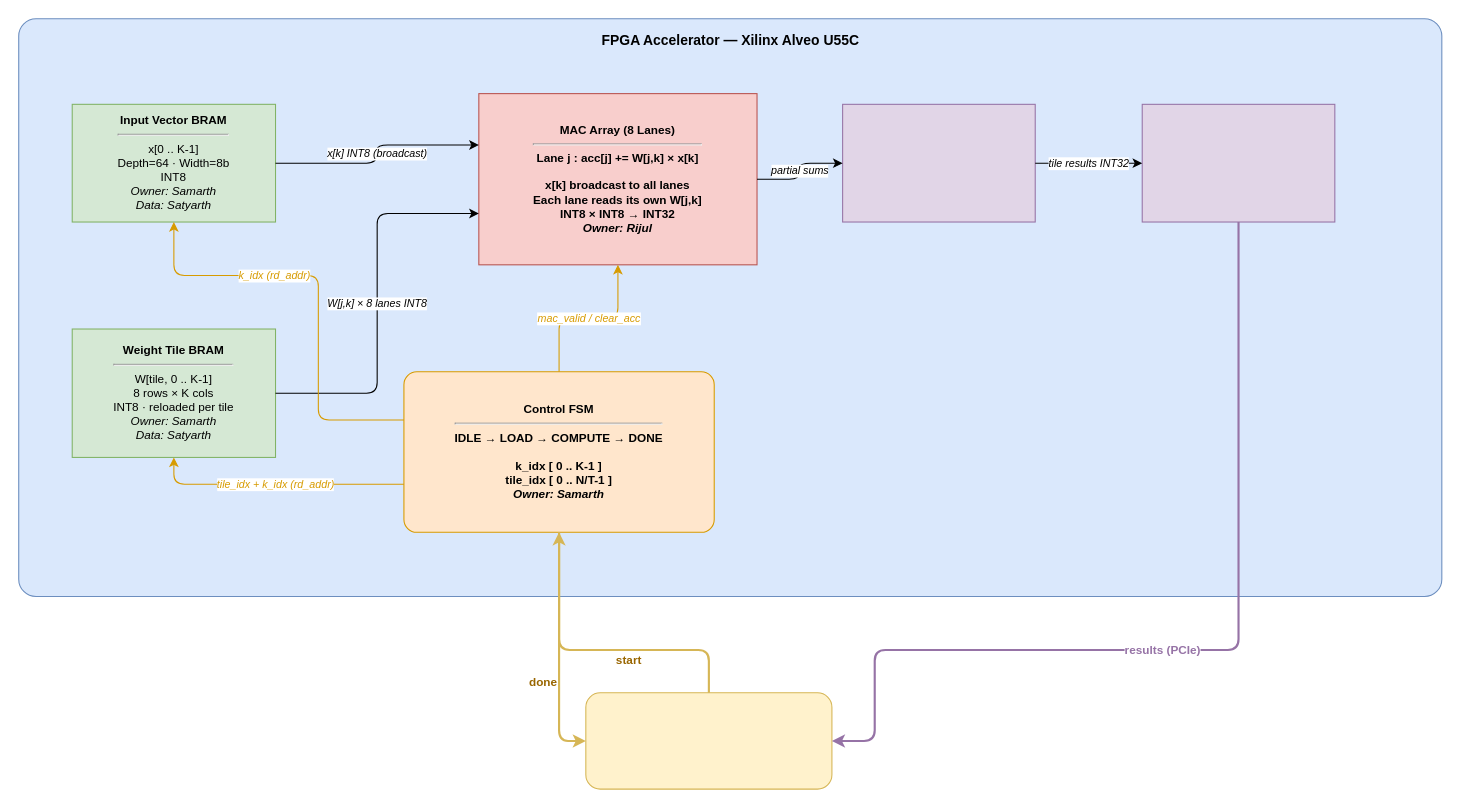
The diagram is 1461 pixels wide and 808 high, and some of its shapes have lost their labels. Here are the shapes that lost their labels. From the top down, the centre of each, then its label:
point (938, 162): Accumulator Regs 8 × INT32 Cleared at each tile boundary Owner: Rijul
point (1238, 162): Output Buffer 64 × INT32 y[0 .. N-1] Owner: Samarth / Om
point (708, 740): Host CPU Tokenization · Control · Baseline Compute Owner: Om
